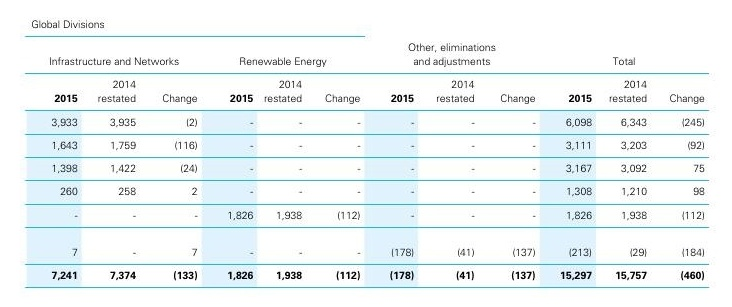table: (0, 0, 732, 307)
